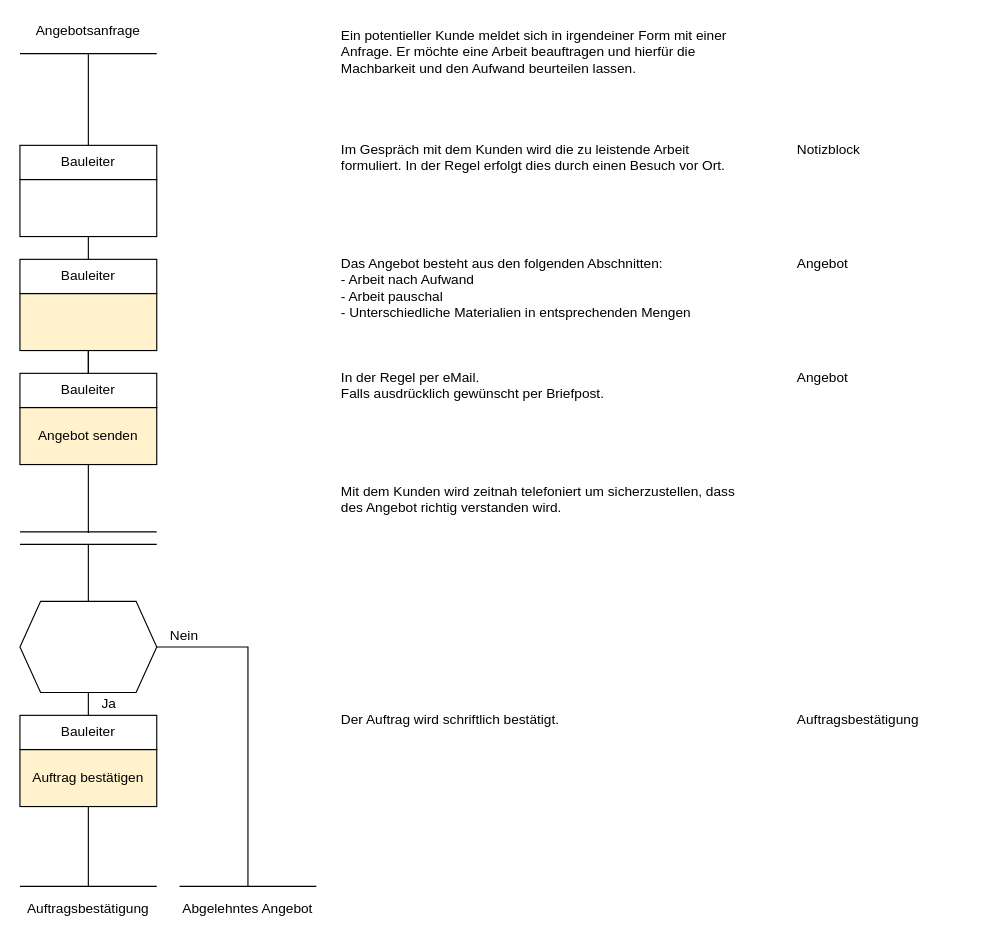
Some shapes in this 998 by 939 pixel diagram are drawn without their labels. Here are the shapes that lost their labels. From the top down, the box of each, then its label:
(19, 178, 157, 237): Anfrage beurteilen
(19, 292, 157, 351): Angebot erstellen
(19, 600, 157, 693): Angebot angenommen?
